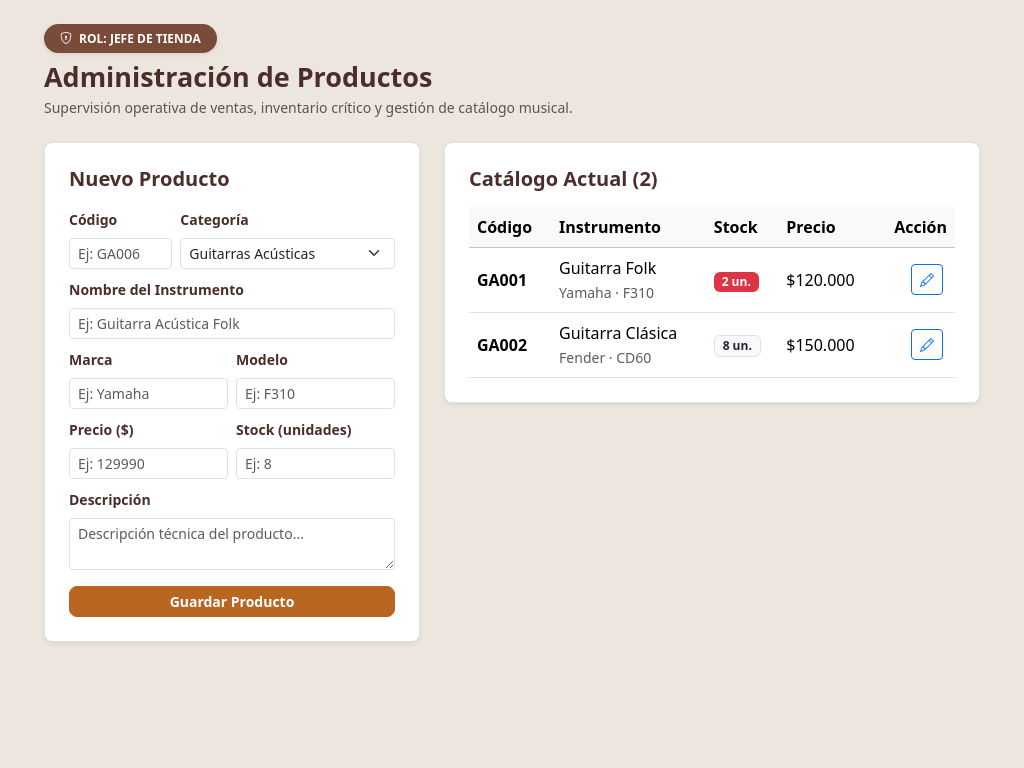
Test: ProductosJefe - Pruebas Unitarias › 8. Valida stock inválido y permite cancelar la edición de un producto
This screenshot has width=1024, height=768.
Step 1. Click the button named "Editar" in the row of "GA001" → click(927, 280), box [911, 264, 943, 295]
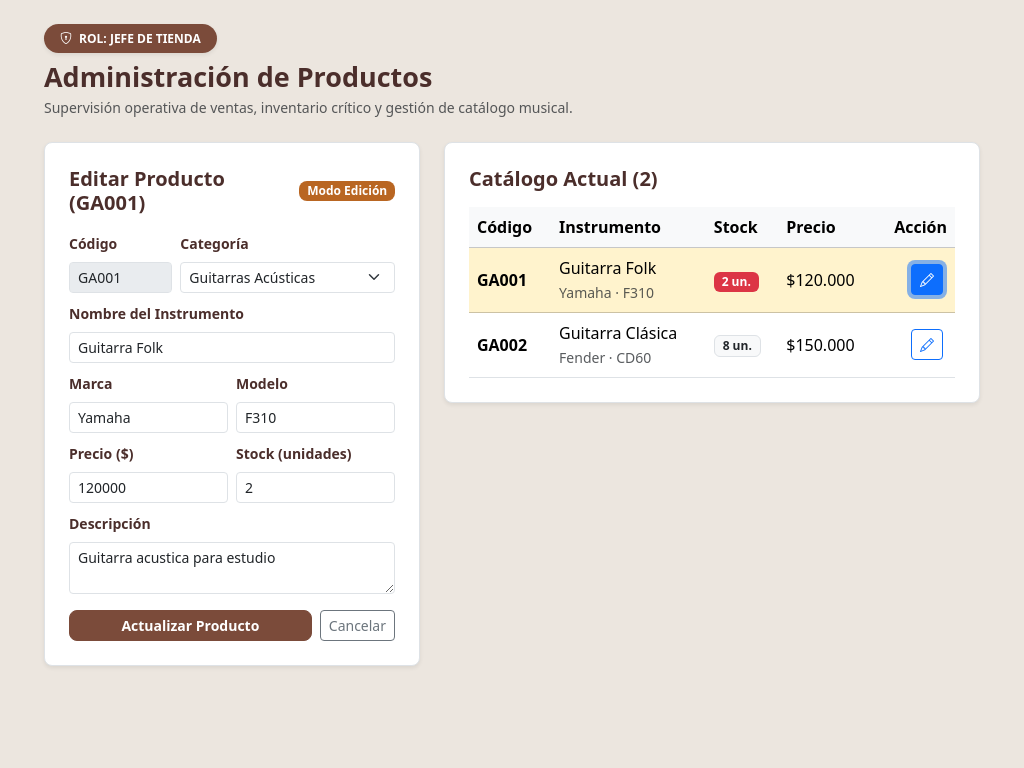
Expected: the button "Cancelar" is shown, [320, 610, 395, 641]
Step 2. Replace the text in the number field labelled "Stock (unidades)" with "-3" → (316, 487), box [236, 472, 395, 503]
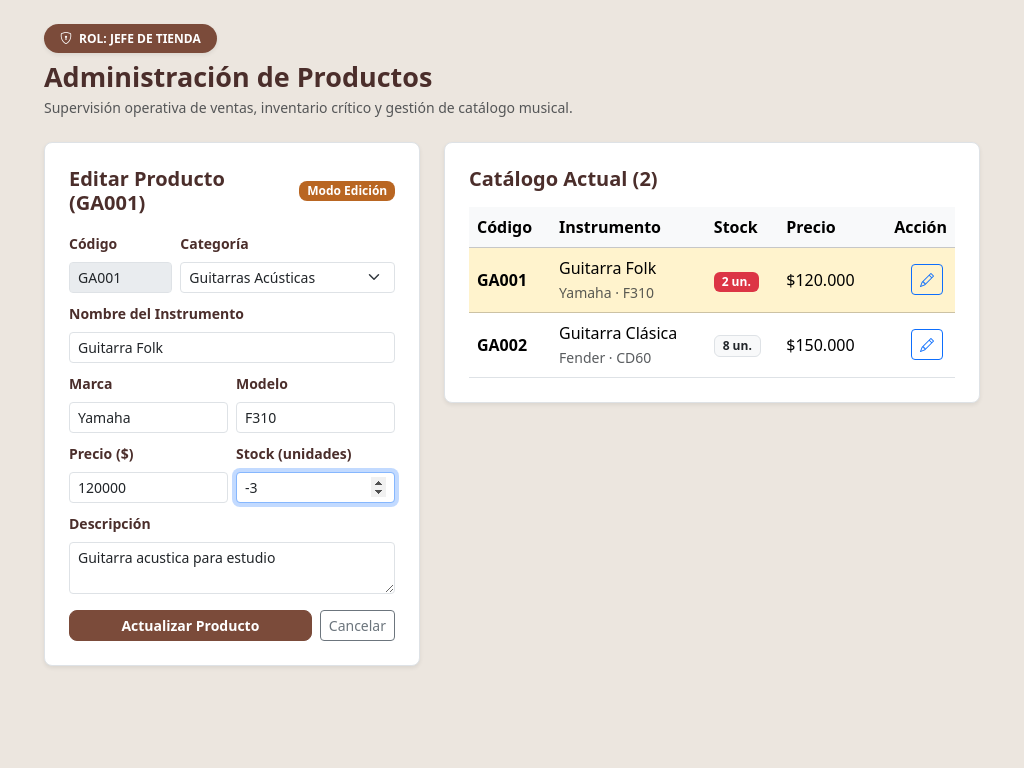
Step 3. Click the button "Actualizar Producto" → click(190, 625), box [69, 610, 312, 641]
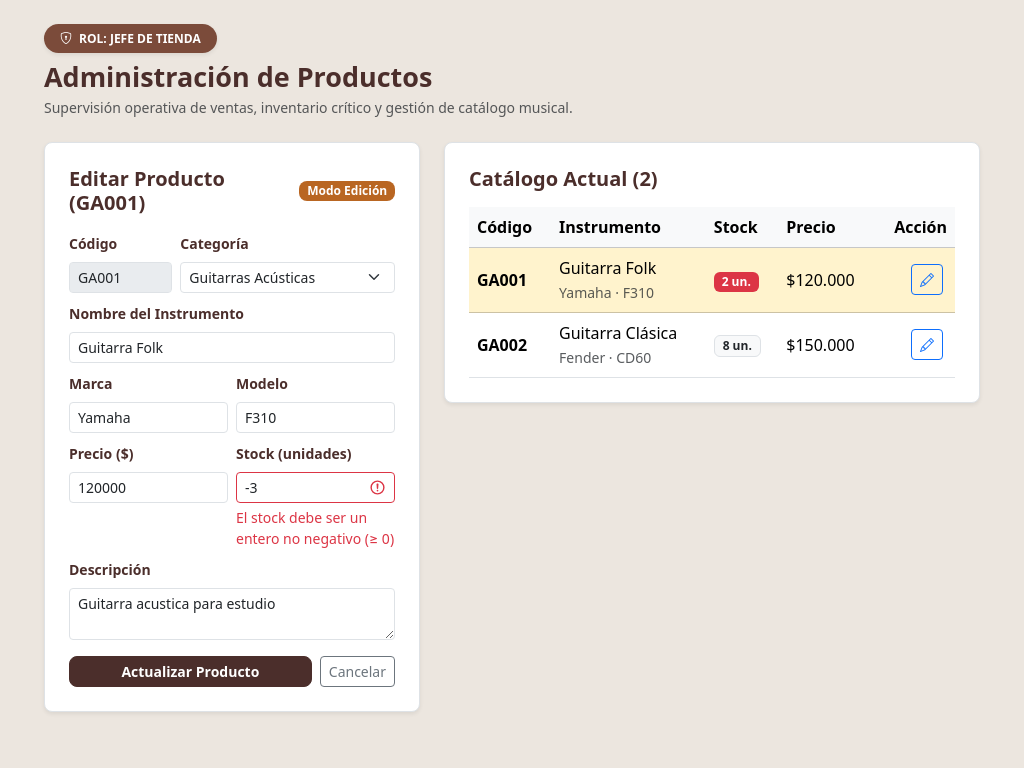
Expected: the text "El stock debe ser un entero no negativo (≥ 0)" is shown, [236, 507, 395, 549]
Step 4. Click the button "Cancelar" → click(357, 671), box [320, 656, 395, 687]
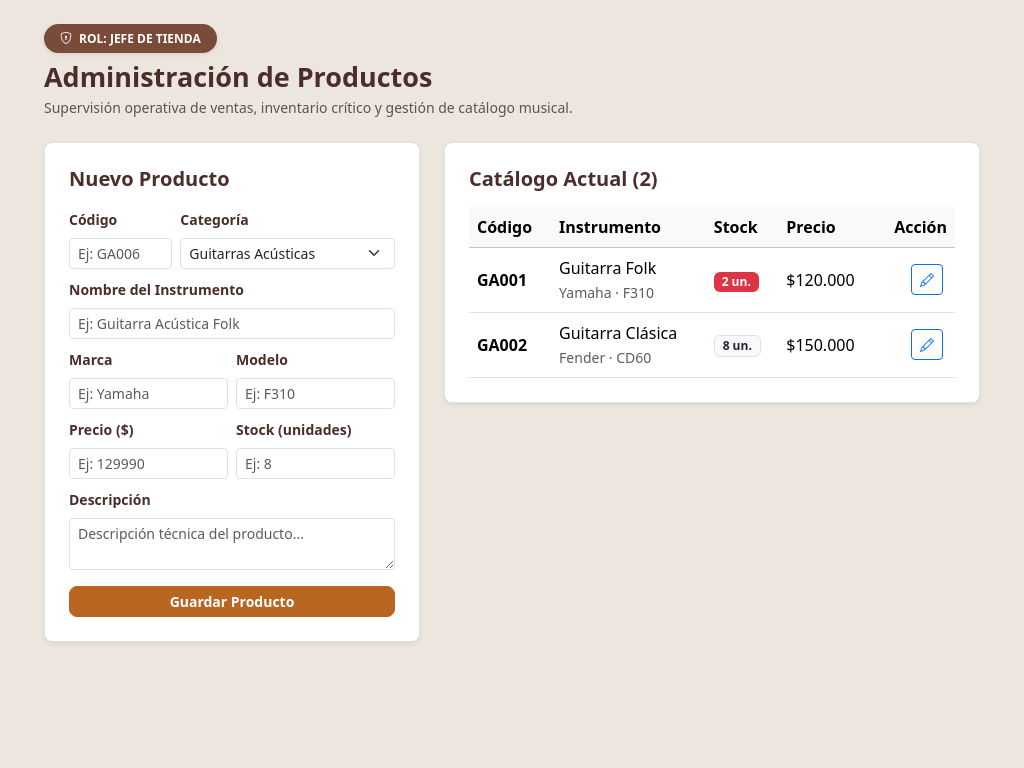
Expected: the button "Cancelar" is gone
